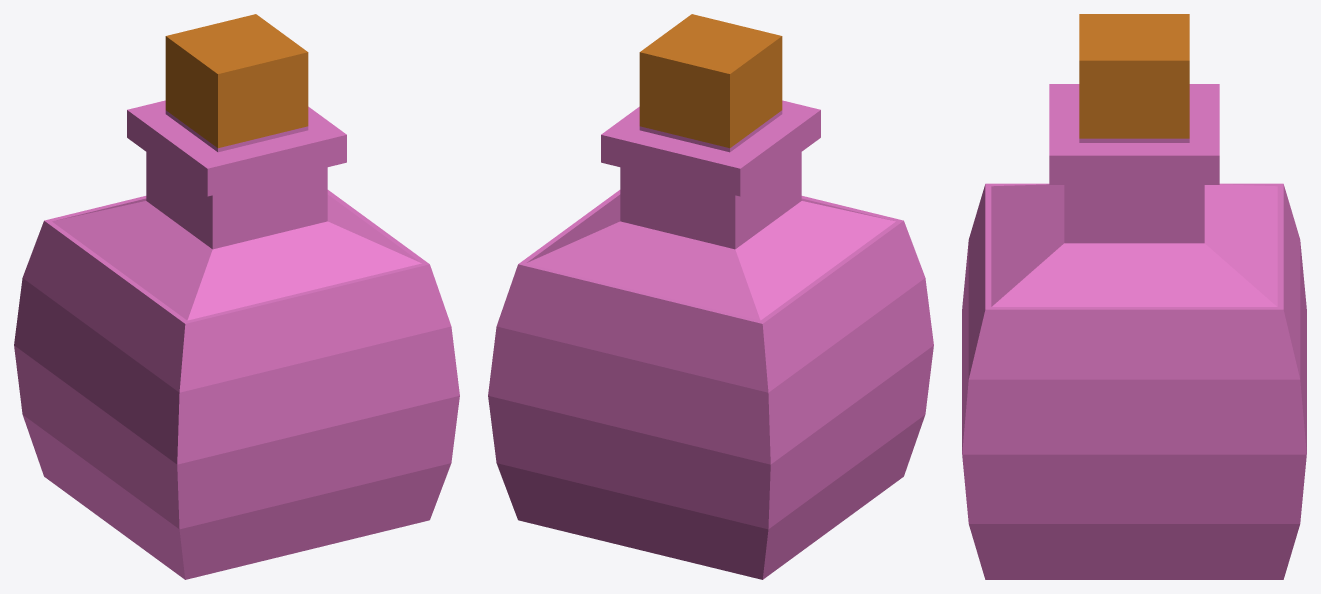
File: prop_Puzzle_Botella4.fbx
3 renders of one model, left to right at view 1: azimuth 30°, elevation 25°; view 2: azimuth 150°, elevation 25°; view 3: azimuth 270°, elevation 25°, orthographic. The views are drawn at different scales.
Parts seen in each view (by area): view 1: Botella4; view 2: Botella4; view 3: Botella4.
Boxes of the visible parts, left/top/right/bottom form: Botella4: left=14, top=14, right=459, bottom=579; Botella4: left=488, top=14, right=933, bottom=579; Botella4: left=962, top=14, right=1306, bottom=579.
Size of the model in its own units: 231 by 355 by 231.
